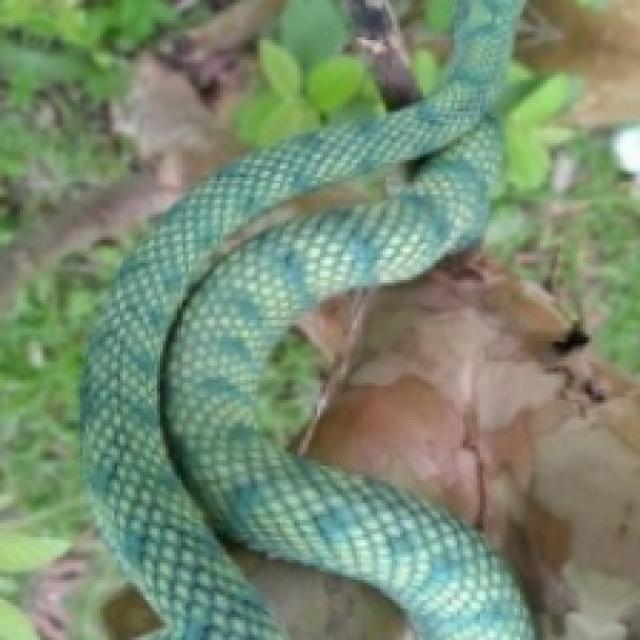north ph temple pitviper: (83, 0, 534, 637), (83, 0, 531, 637)
